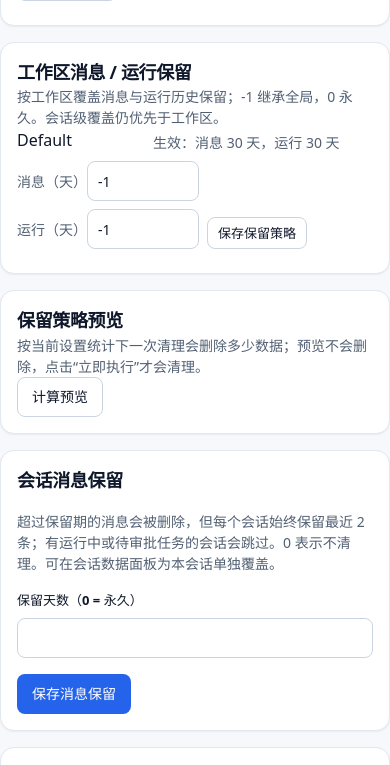
Test: StorageSettings › previews and runs retention cleanup
Later steps or results of the test are not shown.
(page scrolled)
Click the button with test id "retention-preview-load" at (60, 397), box [17,377,103,417]
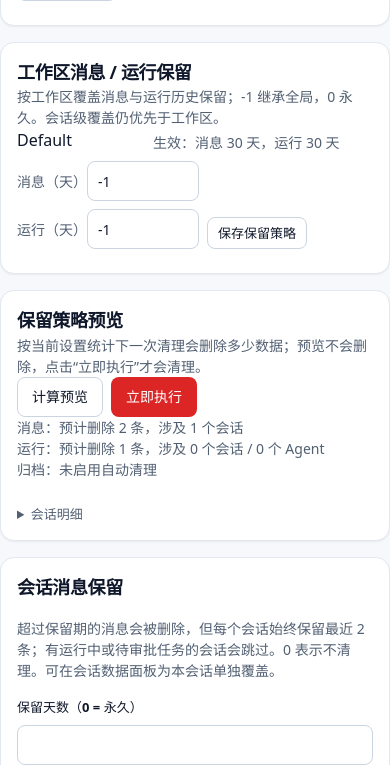
Expected: the element with test id "retention-preview" is shown, [17,417,373,524]
